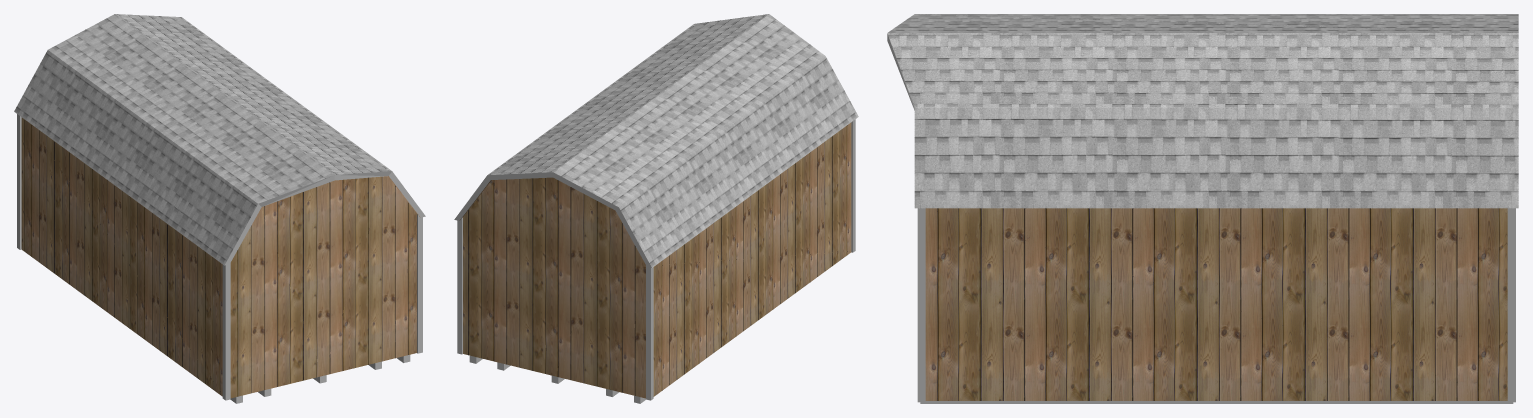
The model's file is High Wall Barns_10x18.obj.
The picture shows the model from 3 angles, left to right: view 1: azimuth 30°, elevation 25°; view 2: azimuth 150°, elevation 25°; view 3: azimuth 270°, elevation 25°; orthographic projection. The views are drawn at different scales.
Parts seen in each view (by area): view 1: Shed, Roof, Trim, Sides, Floor; view 2: Shed, Roof, Trim, Sides, Floor; view 3: Roof, Shed, Trim, Floor.
Boxes of the visible parts, bbox=[...] form: Shed: bbox=[21, 117, 420, 398]; Roof: bbox=[14, 14, 391, 265]; Trim: bbox=[17, 114, 422, 400]; Sides: bbox=[224, 171, 425, 265]; Floor: bbox=[230, 355, 410, 403]; Shed: bbox=[459, 122, 851, 398]; Roof: bbox=[487, 14, 858, 267]; Trim: bbox=[457, 119, 855, 400]; Sides: bbox=[454, 172, 651, 267]; Floor: bbox=[469, 355, 645, 403]; Roof: bbox=[887, 14, 1518, 208]; Shed: bbox=[925, 208, 1507, 400]; Trim: bbox=[917, 208, 1515, 402]; Floor: bbox=[920, 401, 1513, 403].
Size of the model in its own units: 3.09 by 3.17 by 5.84.
